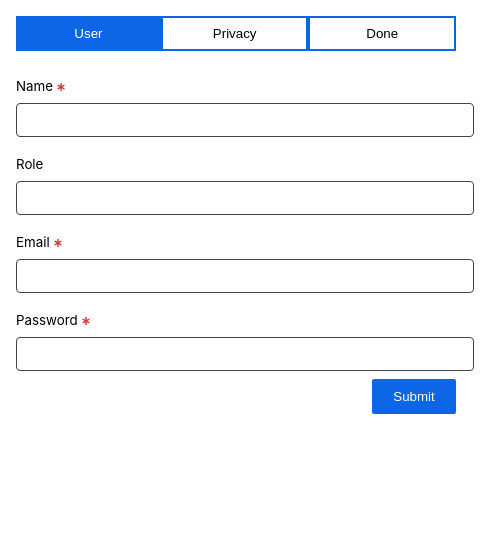
Test case: should display validation error when submitting incomplete form
Type "Tom" into the field labelled "Name".
click(245, 120); type("Tom")  # box [16,103,474,137]
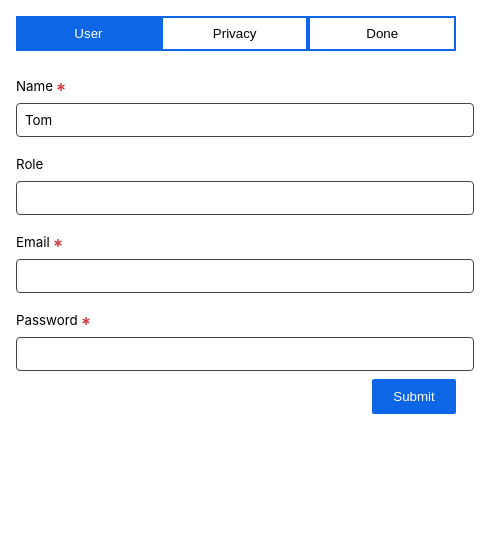
Type "tompomgmail.com" into the field labelled "Email".
click(245, 276); type("tompomgmail.com")  # box [16,259,474,293]
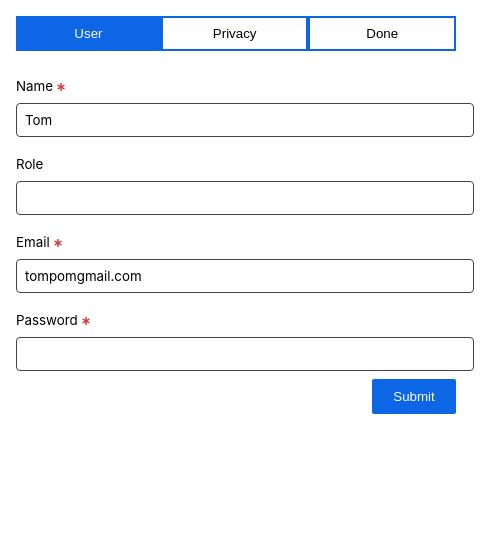
Type "1Pas" into the field labelled "Password".
click(245, 354); type("1Pas")  # box [16,337,474,371]
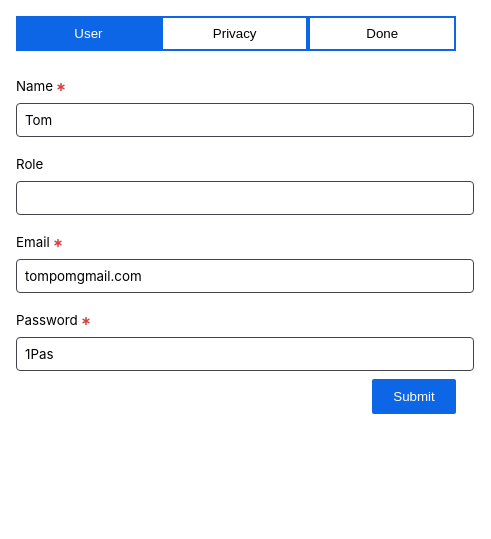
Click the button named "Submit".
click(414, 396)  # box [372,379,456,414]
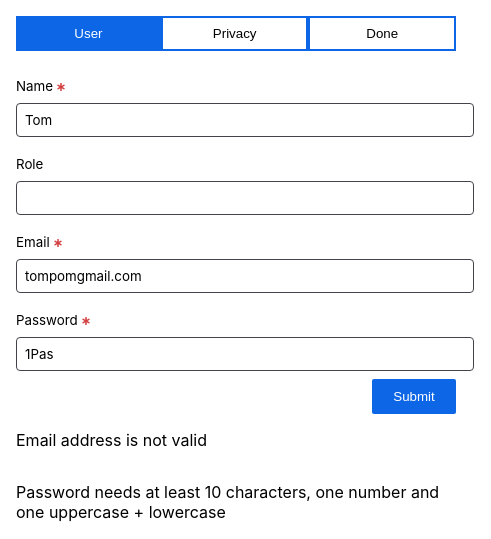
Result: the text "Email address is not valid" is shown at [16,430,207,450]
Result: the text "Password needs at least 10 characters, one number and one uppercase + lowercase" is shown at [16,482,456,522]
